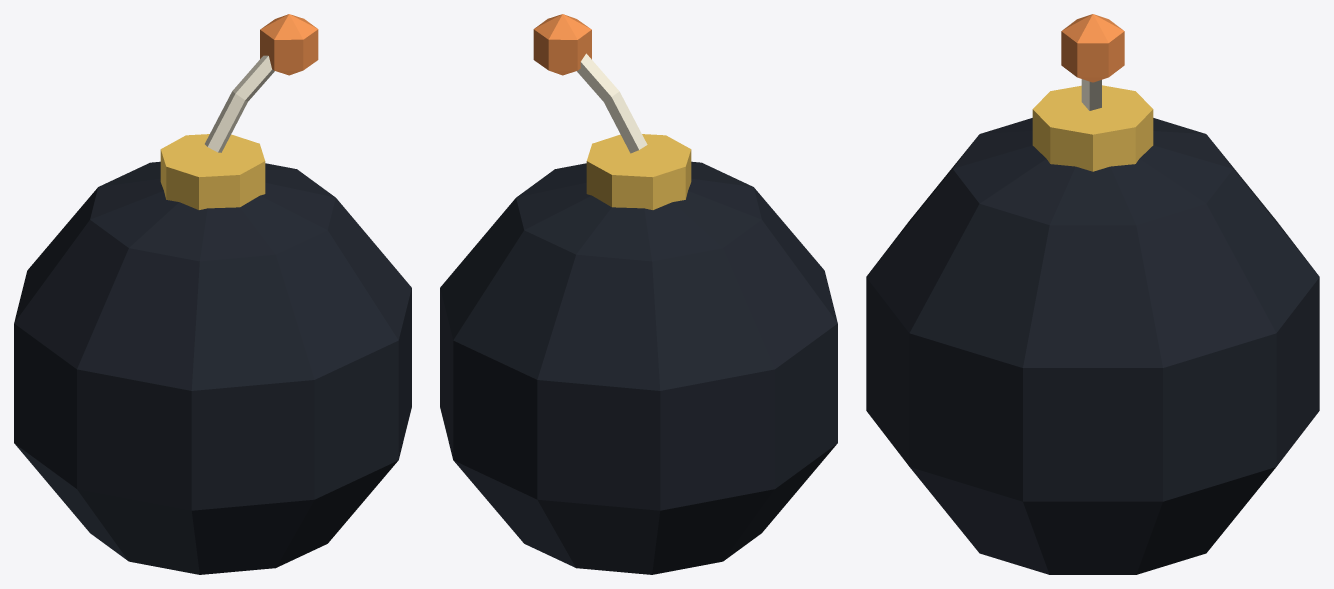
File: bomb.glb
3 renders of one model, left to right at view 1: azimuth 30°, elevation 25°; view 2: azimuth 150°, elevation 25°; view 3: azimuth 270°, elevation 25°, orthographic. The views are drawn at different scales.
Parts seen in each view (by area): view 1: bomb; view 2: bomb; view 3: bomb.
Part boxes in pixels (x1,y1,x2,y2): bomb: (14,14,411,574); bomb: (440,14,837,574); bomb: (866,14,1319,574).
Bounding box in the file's own units: 0.2929 × 0.44 × 0.308.
